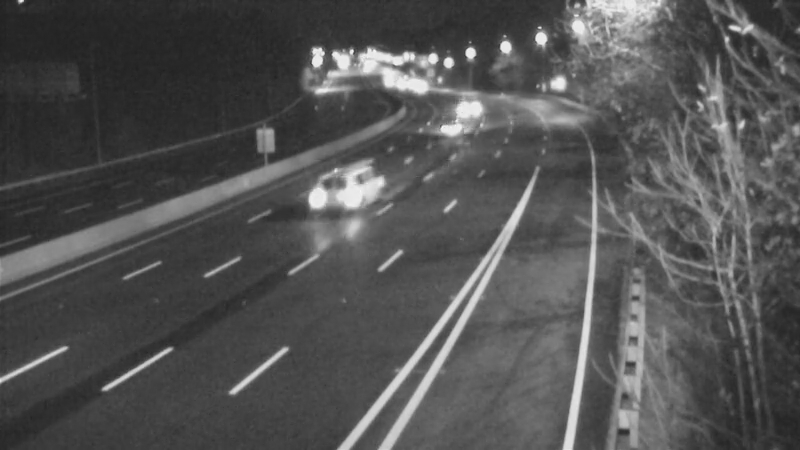vehicle: (302, 149, 382, 229), (444, 84, 494, 134), (424, 102, 474, 152)
